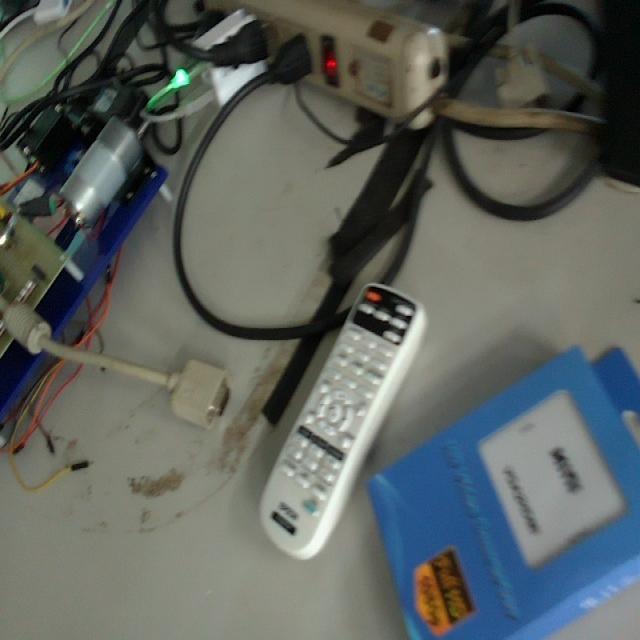remote: (365, 340, 640, 640), (257, 278, 424, 557)
